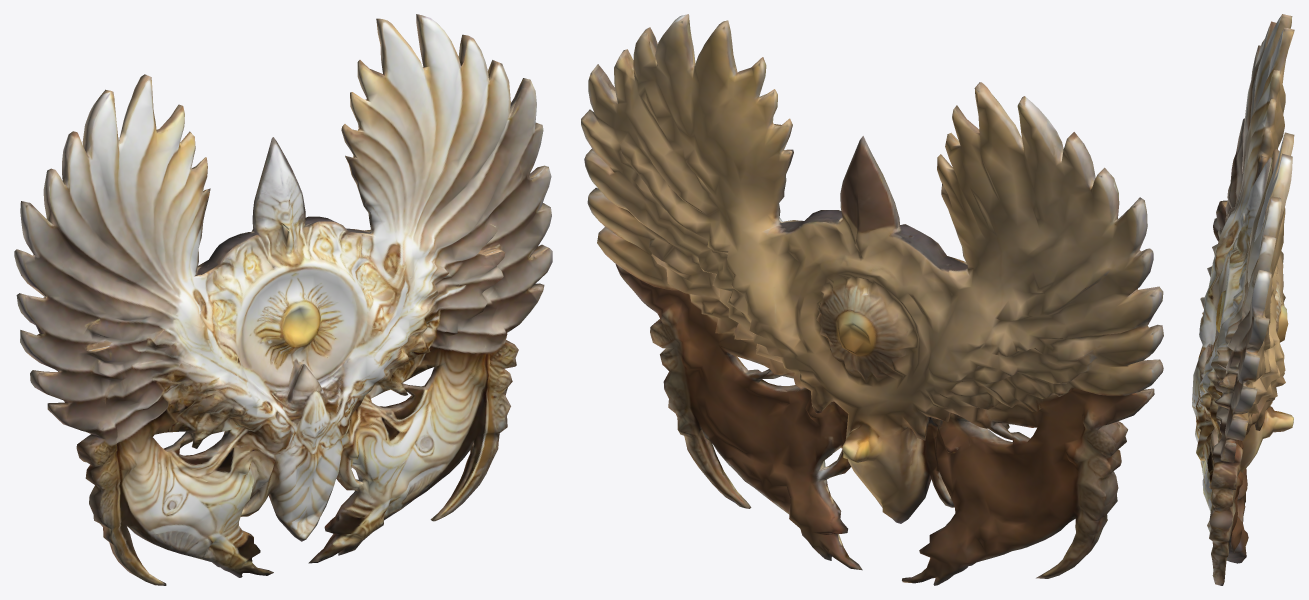
File: leader_celestial.fbx
The picture shows the model from 3 angles, left to right: view 1: azimuth 30°, elevation 25°; view 2: azimuth 150°, elevation 25°; view 3: azimuth 270°, elevation 25°; orthographic projection. The views are drawn at different scales.
Parts seen in each view (by area): view 1: Mesh1_Mesh1.159; view 2: Mesh1_Mesh1.159; view 3: Mesh1_Mesh1.159.
Boxes of the visible parts, left/top/right/bottom form: Mesh1_Mesh1.159: left=14, top=14, right=552, bottom=585; Mesh1_Mesh1.159: left=581, top=14, right=1163, bottom=585; Mesh1_Mesh1.159: left=1192, top=14, right=1294, bottom=585.
Bounding box in the file's own units: 200 × 182 × 36.6.
Materials: 1 (1 with a texture image).
